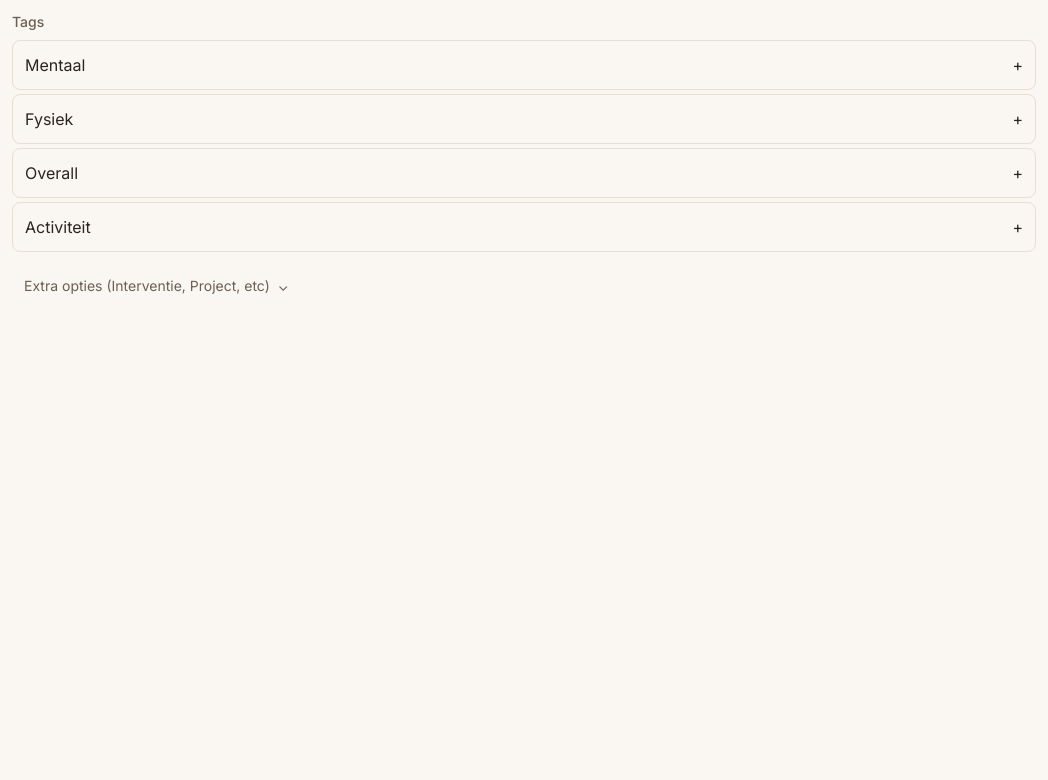
Test: <TagCategoryList /> › shows the "+ nieuw" chip in empty categories without the legacy "Geen tags hier nog" copy
Click the button "Extra opties (Interventie, Project, etc) ⌄": [156, 286] box [12, 264, 301, 308]
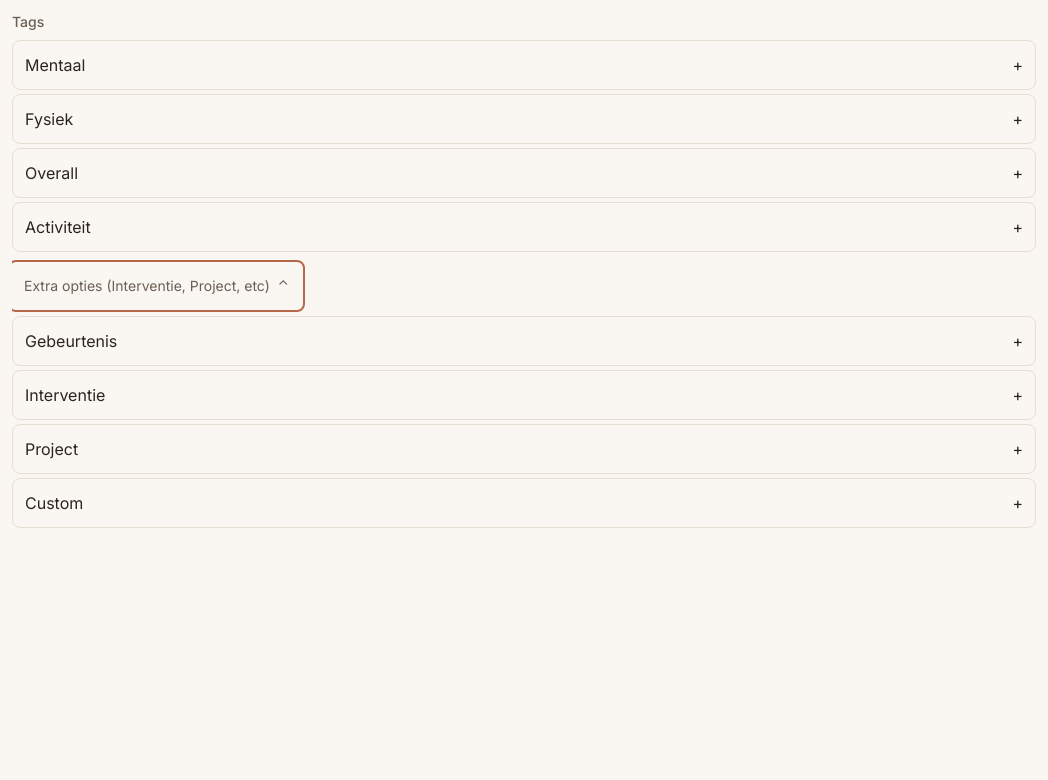
Click the button "gebeurtenis +": [71, 341] box [12, 316, 1036, 366]
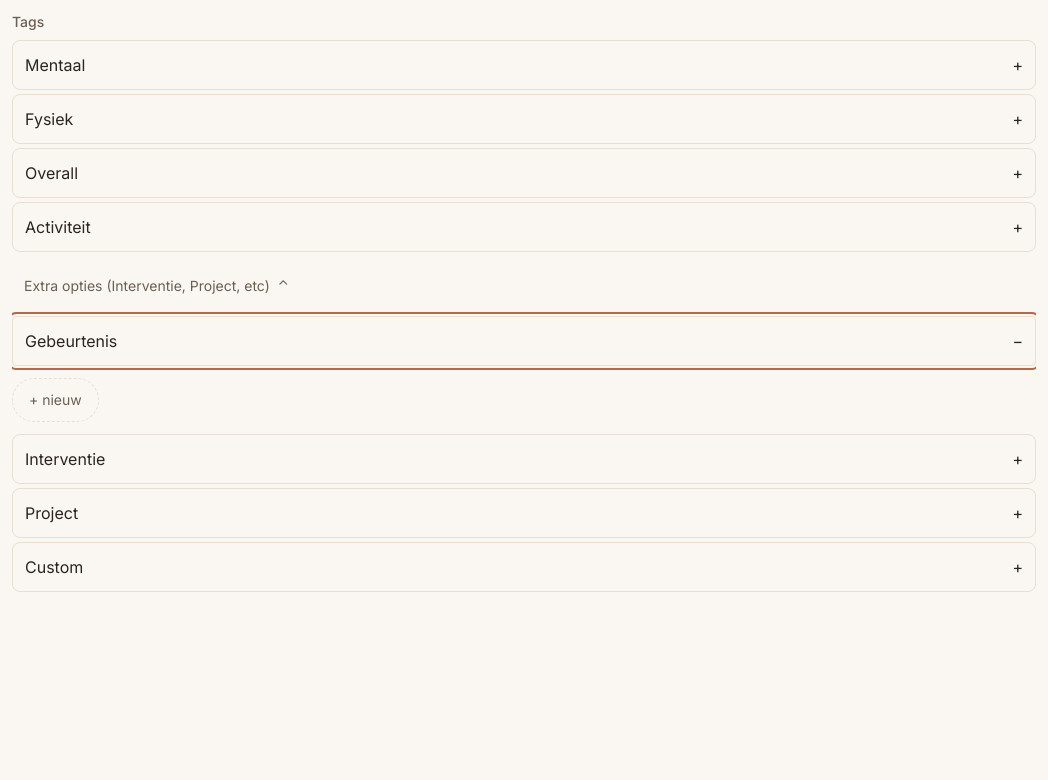
Now the button with aria-label "voeg tag toe aan gebeurtenis" is shown, box [12, 378, 99, 422]
